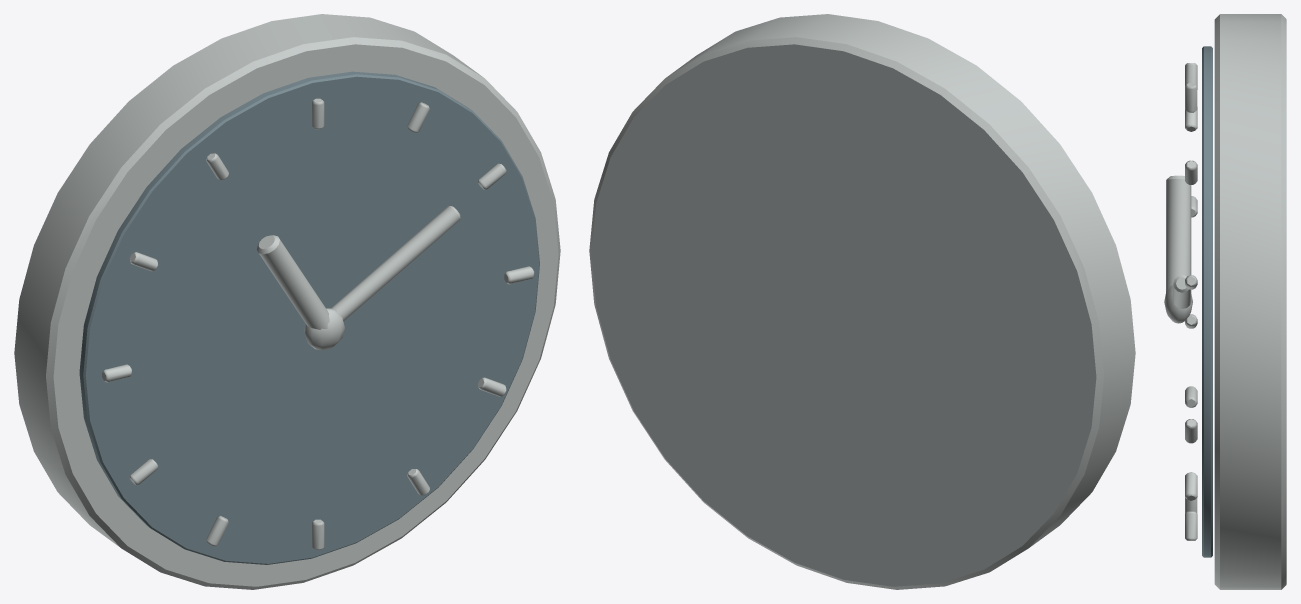
The model's file is wall-clock.glb.
The picture shows the model from 3 angles, left to right: view 1: azimuth 30°, elevation 25°; view 2: azimuth 150°, elevation 25°; view 3: azimuth 270°, elevation 25°; orthographic projection. The views are drawn at different scales.
Parts seen in each view (by area): view 1: clock_face, clock_case, minute_hand, hour_hand, hand_hub; view 2: clock_case; view 3: clock_case, clock_face, hour_hand, hand_hub, minute_hand, hour_mark.005, hour_mark, hour_mark.004, hour_mark.001, hour_mark.007, hour_mark.011, hour_mark.003 (+1 smaller).
Boxes of the visible parts, x1,y1,x2,y2 form: clock_face: (79, 71, 539, 564); clock_case: (14, 14, 560, 589); minute_hand: (331, 206, 460, 321); hour_hand: (257, 235, 329, 329); hand_hub: (304, 308, 344, 350); clock_case: (589, 14, 1135, 589); clock_case: (1214, 14, 1286, 589); clock_face: (1202, 46, 1212, 557); hour_hand: (1166, 175, 1191, 291); hand_hub: (1164, 285, 1192, 323); minute_hand: (1173, 275, 1191, 308); hour_mark.005: (1185, 511, 1197, 540); hour_mark: (1185, 83, 1197, 112); hour_mark.004: (1185, 472, 1197, 500); hour_mark.001: (1185, 160, 1197, 184); hour_mark.007: (1185, 419, 1197, 443); hour_mark.011: (1185, 63, 1197, 89); hour_mark.003: (1185, 386, 1197, 407).
Size of the model in its own units: 0.32 by 0.32 by 0.068.
